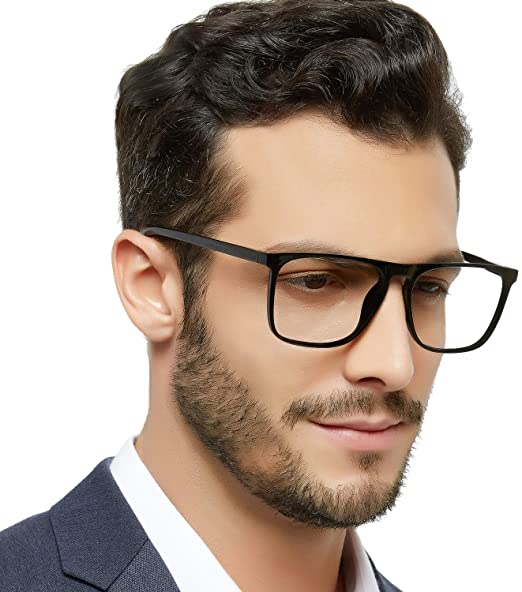BOY: (114, 3, 479, 519)
